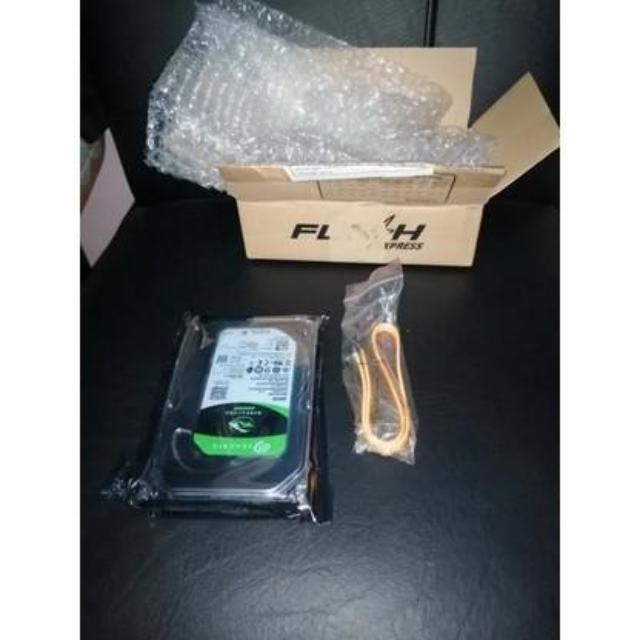DISK: (152, 314, 320, 528)
